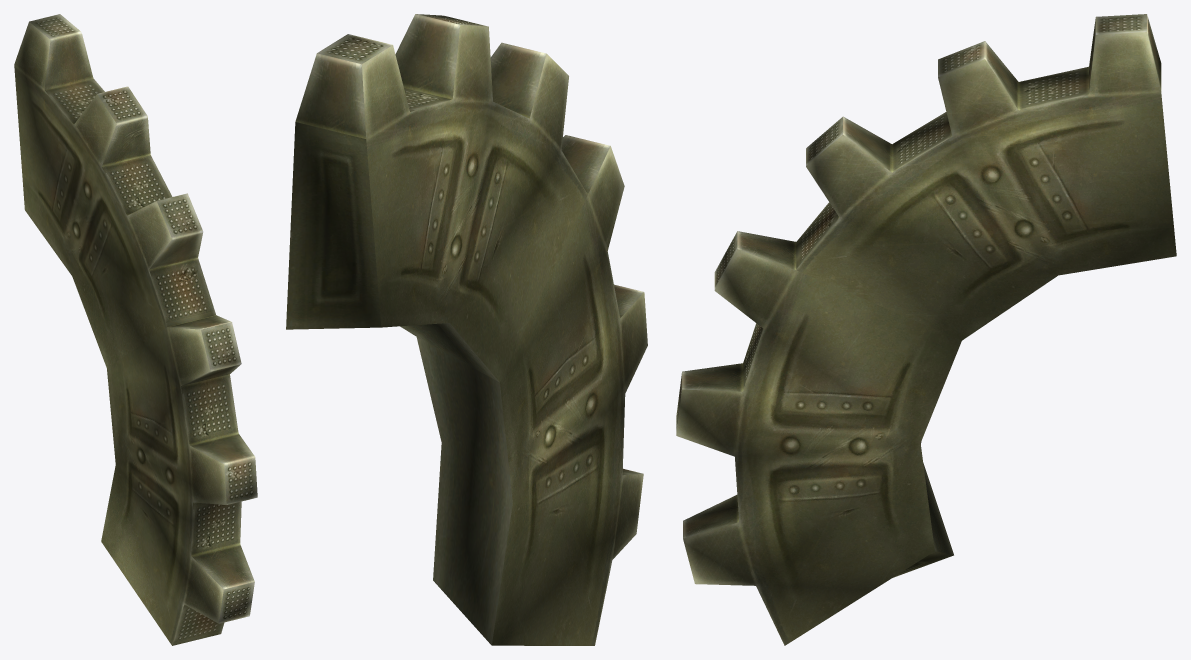
File: obj_macoprgrge01-01.glb
The picture shows the model from 3 angles, left to right: view 1: azimuth 30°, elevation 25°; view 2: azimuth 150°, elevation 25°; view 3: azimuth 270°, elevation 25°; orthographic projection. The views are drawn at different scales.
Parts seen in each view (by area): view 1: part_0; view 2: part_0; view 3: part_0.
Part boxes in pixels (x1=…): part_0: x1=14, y1=14, x2=257, y2=645; part_0: x1=286, y1=14, x2=647, y2=645; part_0: x1=676, y1=14, x2=1176, y2=645.
Bounding box in the file's own units: 4.11 × 41.02 × 30.58.
Materials: 1 (1 with a texture image).
